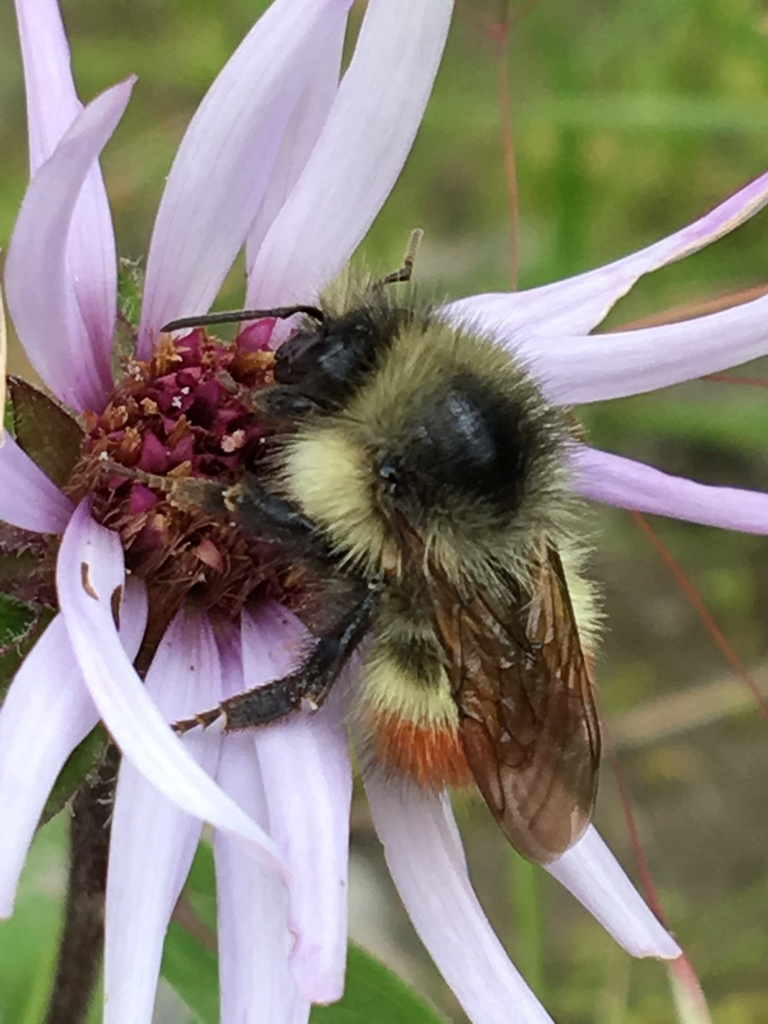bumblebee: (90, 226, 607, 869)
